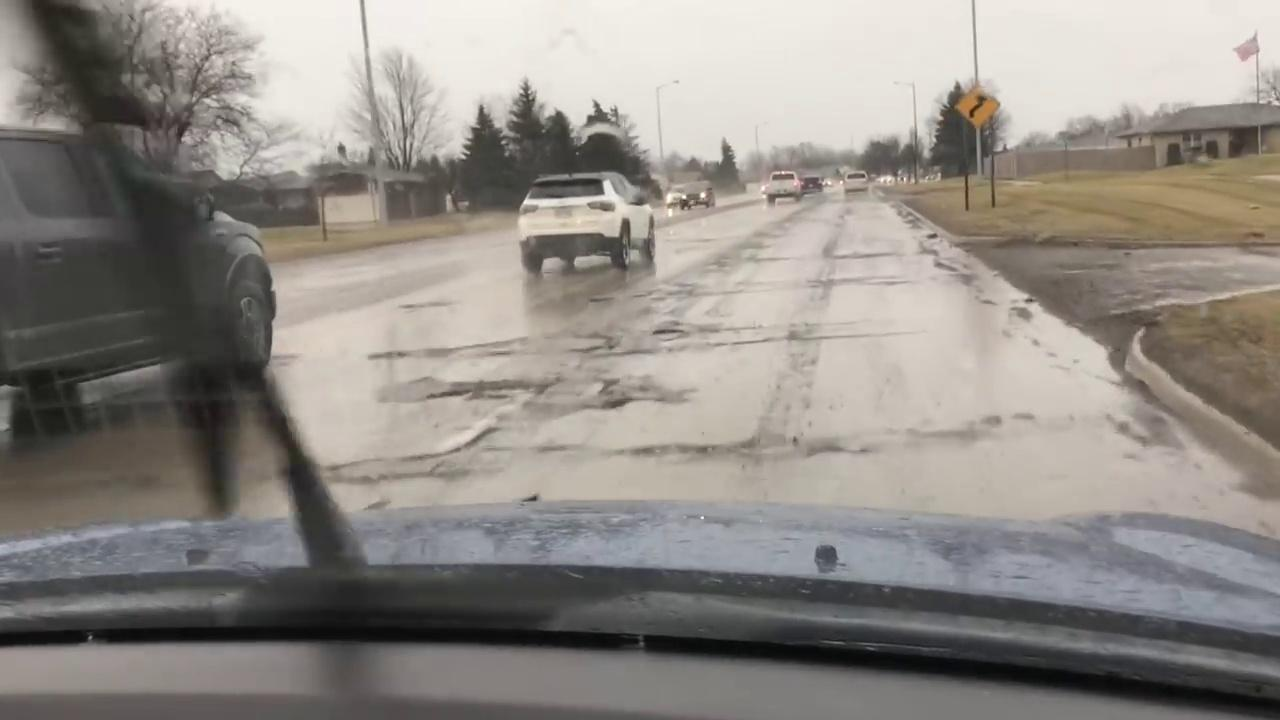pothole: (592, 395, 635, 411), (427, 387, 472, 399), (365, 349, 409, 360), (654, 327, 687, 336)
